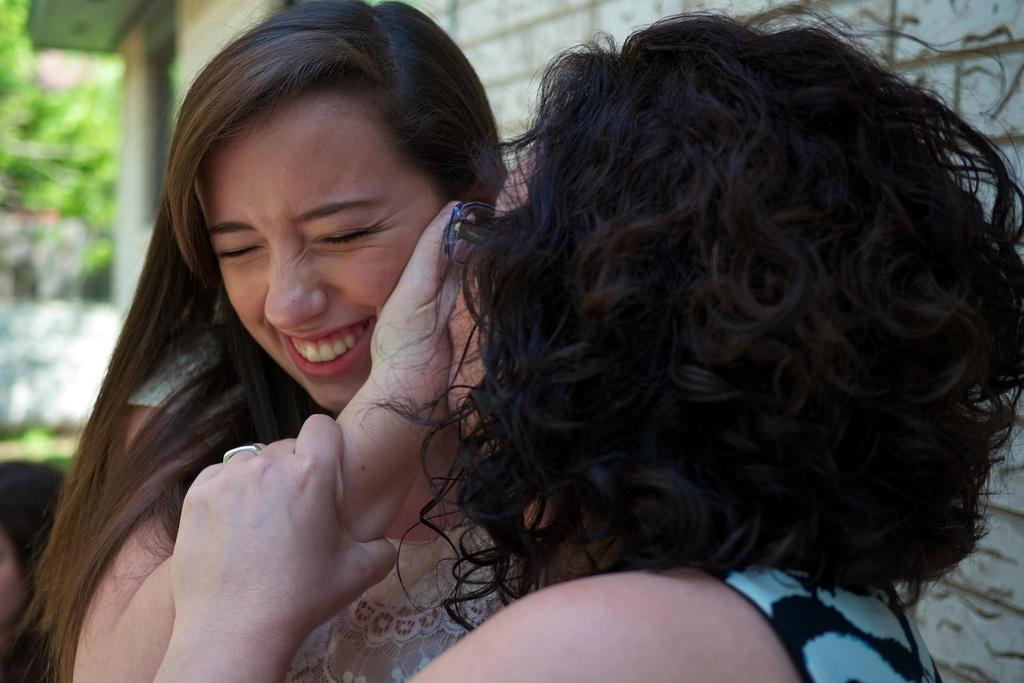Sem Máscara: (198, 85, 460, 409)
